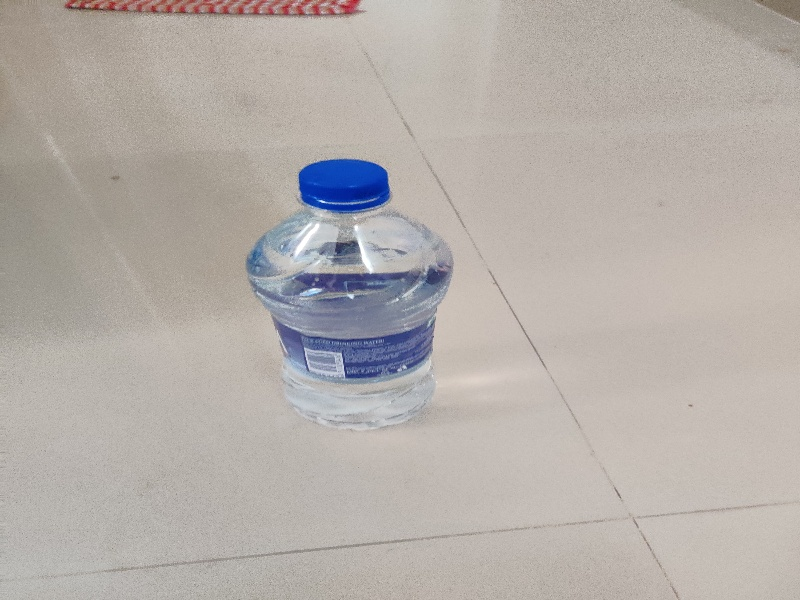bottle: (234, 153, 459, 429)
